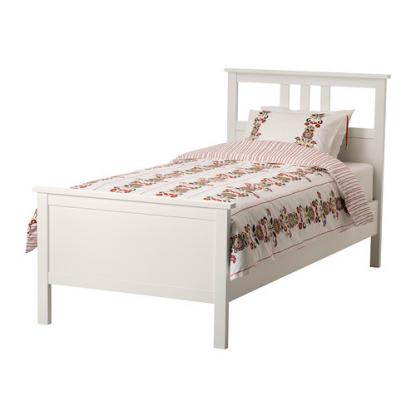Bed: (27, 64, 395, 352)
